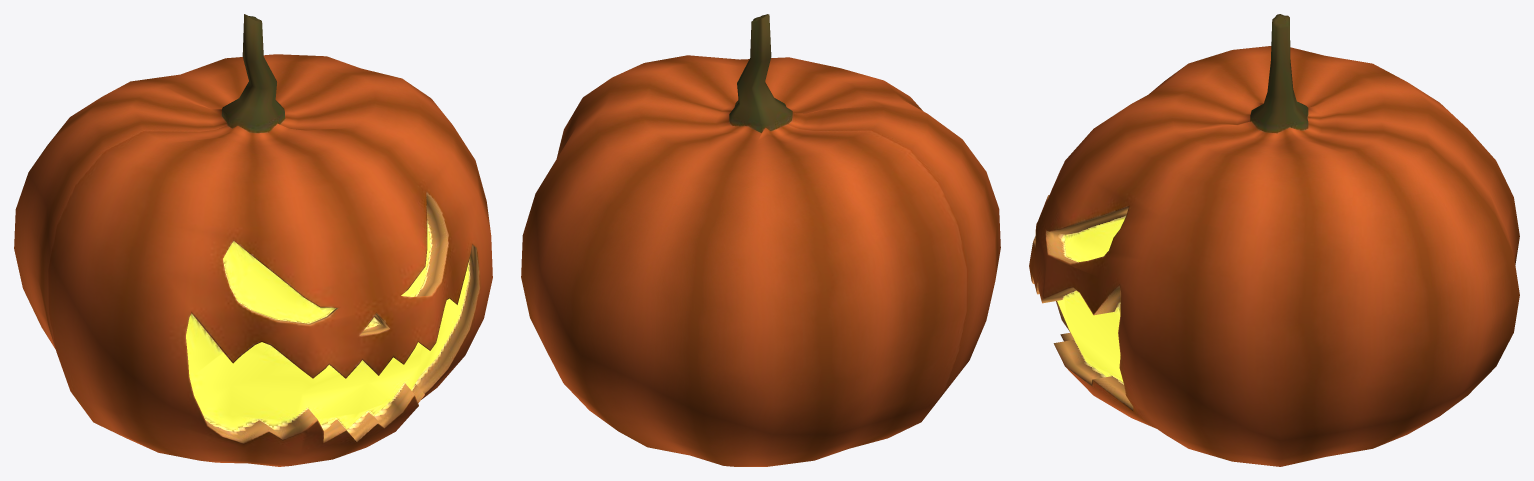
The model's file is halloween_pumpkin.glb.
3 renders of one model, left to right at view 1: azimuth 30°, elevation 25°; view 2: azimuth 150°, elevation 25°; view 3: azimuth 270°, elevation 25°, orthographic.
Parts seen in each view (by area): view 1: Sphere.002; view 2: Sphere.002; view 3: Sphere.002.
Part boxes in pixels (<box>): Sphere.002: <box>14,14,492,466</box>; Sphere.002: <box>521,14,1000,466</box>; Sphere.002: <box>1029,14,1519,466</box>.
Size of the model in its own units: 1.39 by 1.32 by 1.46.
1 material, 1 textured.
